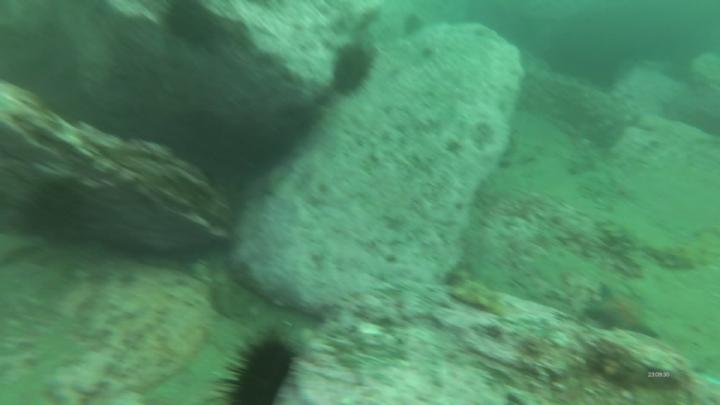echinus: (223, 335, 296, 405), (162, 4, 227, 50), (331, 42, 380, 102)
holothurian: (446, 272, 510, 319), (657, 236, 720, 267)
starfish: (583, 279, 661, 340)
